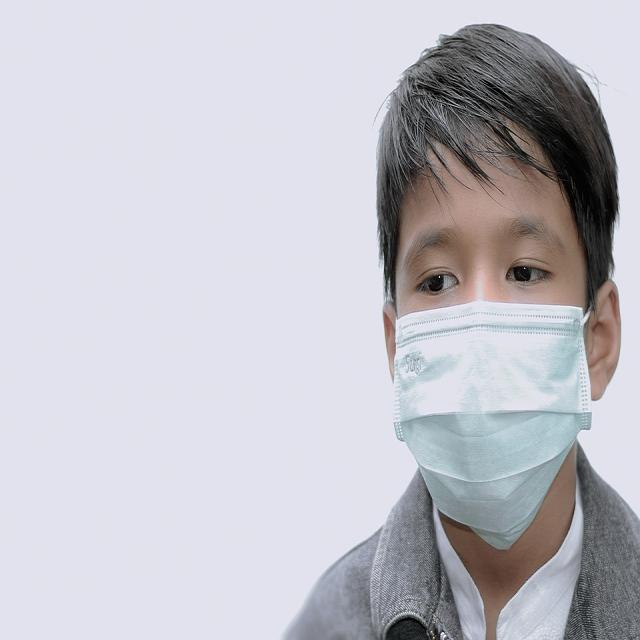1_mascarilla: (398, 316, 593, 549)
